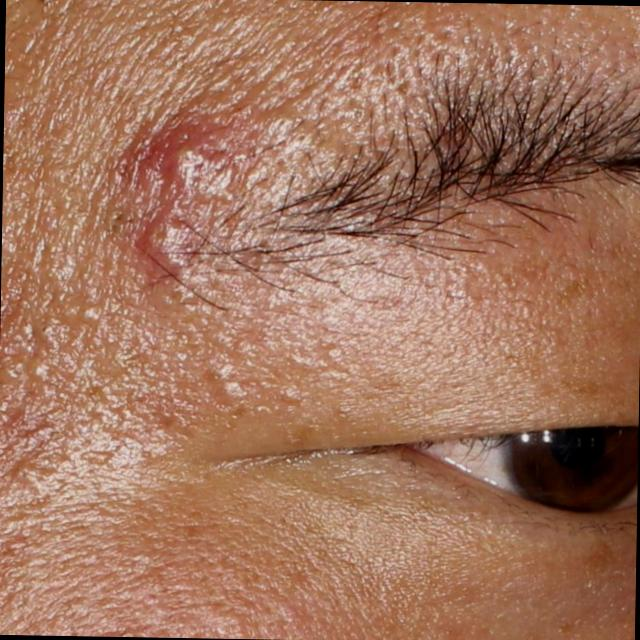nodule: (143, 209, 190, 257), (158, 142, 201, 192)
